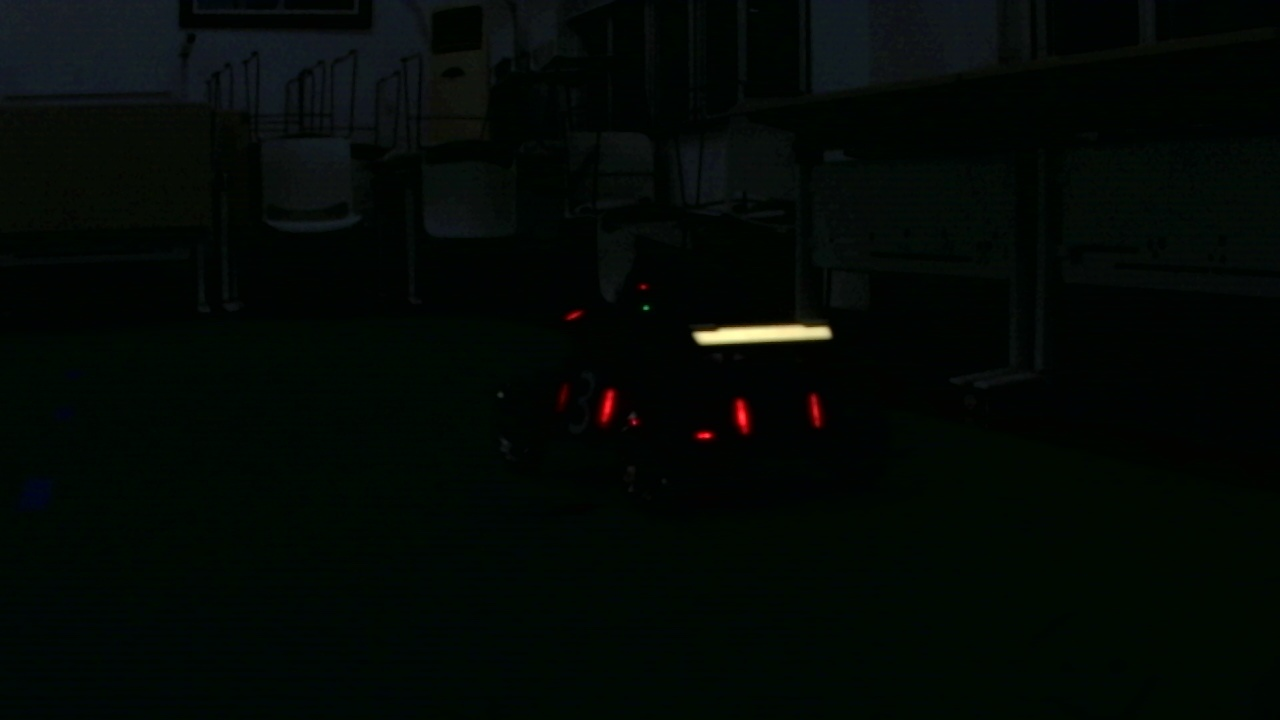lamp: (730, 387, 752, 435), (598, 377, 615, 431), (809, 390, 825, 428)
notpair1: (597, 381, 749, 443)
pair1: (732, 390, 828, 444)
